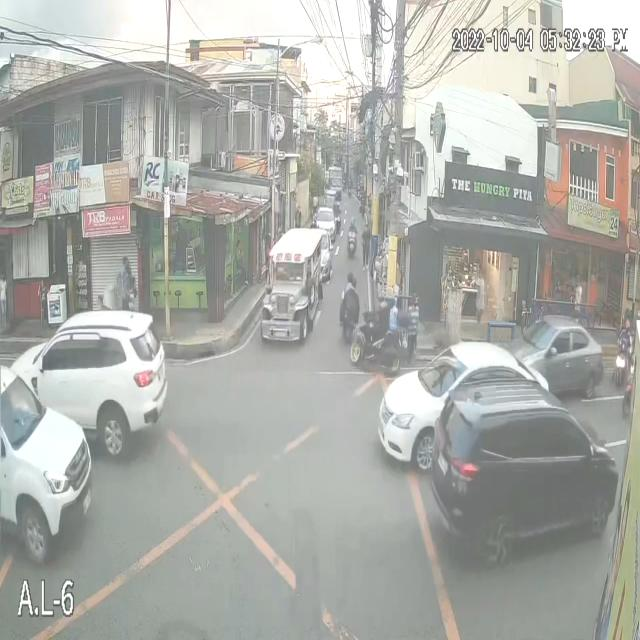Full-Faced: (618, 302, 631, 335), (377, 292, 389, 318), (347, 269, 354, 286), (350, 203, 356, 218), (350, 212, 356, 226), (354, 281, 359, 290)
